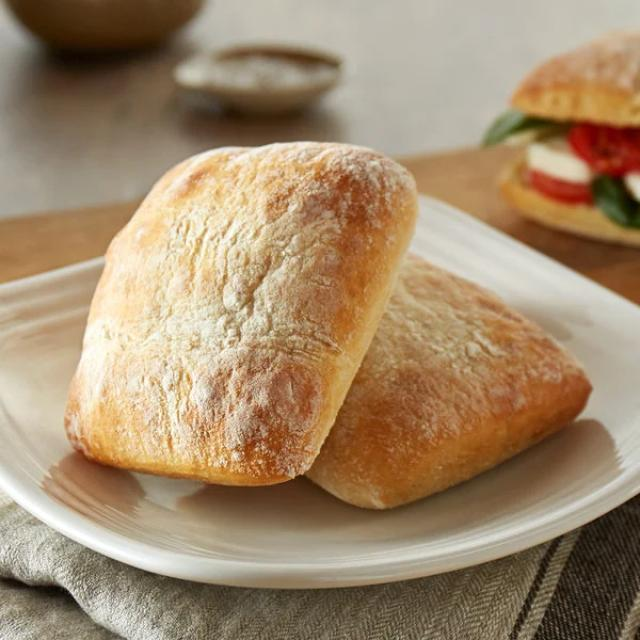Ciabatta: (65, 142, 416, 484), (305, 255, 590, 507)
